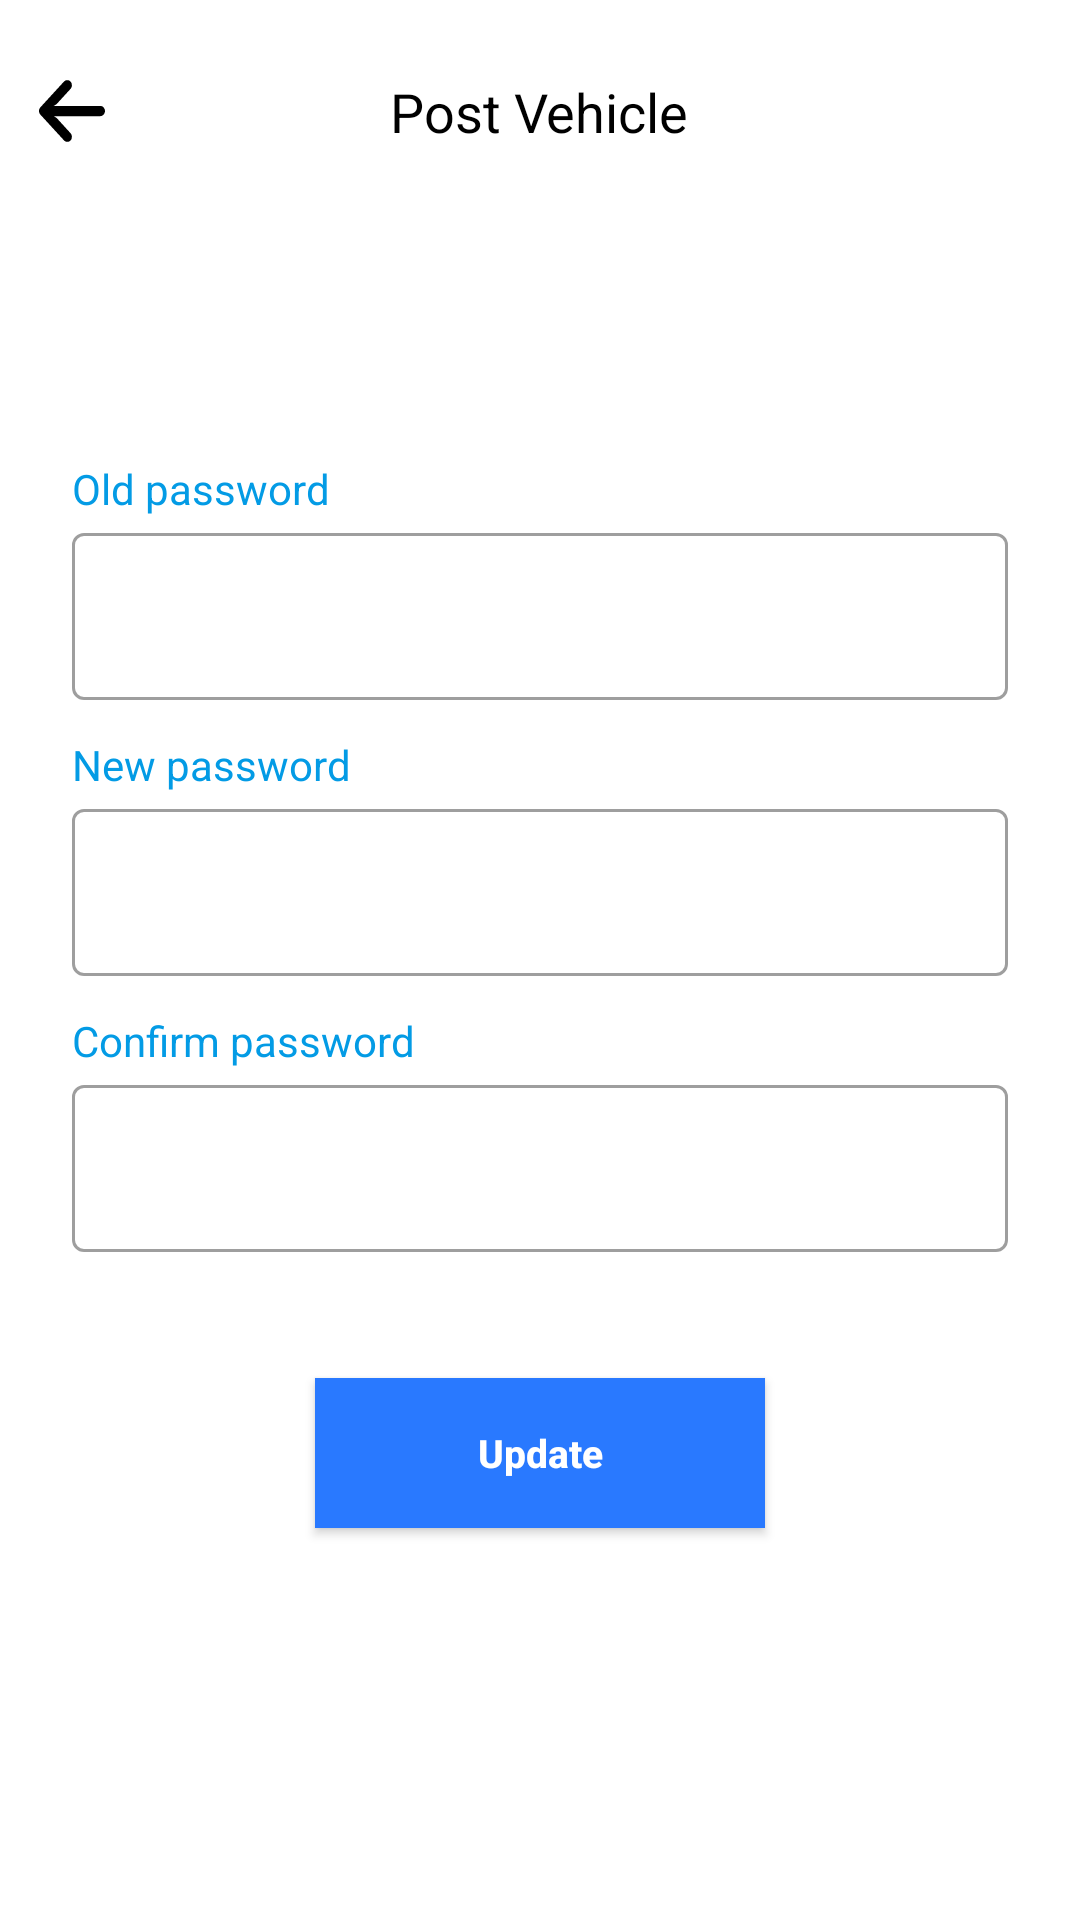

Where to tap for icons on this 1080x1920 app screen, as [x,y]:
back arrow: [72,111]
